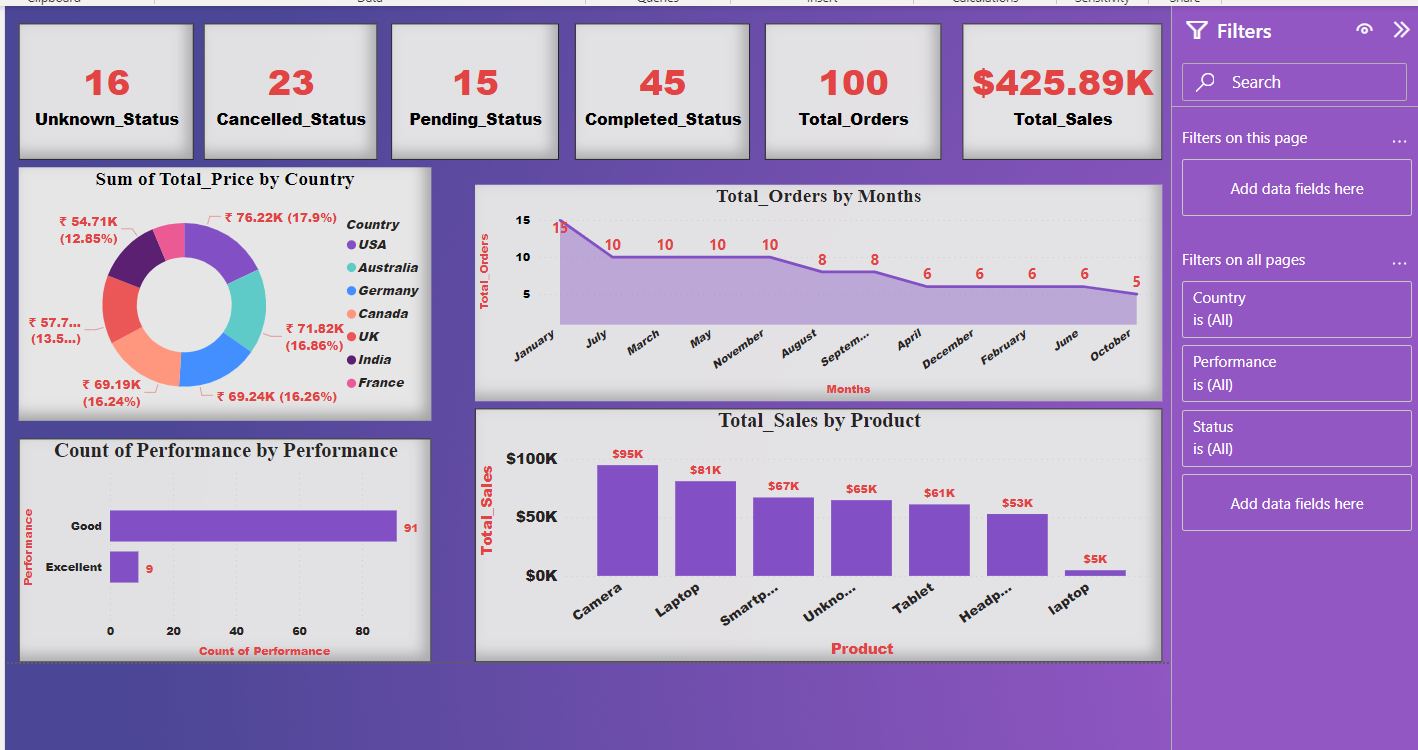

The dashboard page shown, as its layout file describes it:
{"tool":"powerbi","page":{"name":"Page 1","canvas":[1280,720],"ordinal":0},"visuals":[{"type":"donutChart","fields":{"Category":["practice_sales_data.Country"],"Y":["Sum(practice_sales_data.Total_Price)"]},"box":[15.1,177,452.8,278.6],"z":0},{"type":"areaChart","fields":{"Category":["practice_sales_data.Months"],"Y":["practice_sales_data.rder_Count"]},"box":[516,196.2,754.7,237.4],"z":1000},{"type":"card","fields":{"Values":["practice_sales_data.Total_Sales"]},"box":[1051.1,19.2,219.6,149.6],"z":2000},{"type":"clusteredColumnChart","fields":{"Y":["practice_sales_data.Total_Sales"],"Category":["practice_sales_data.Product"]},"box":[516,441.9,754.7,278.6],"z":3000},{"type":"card","fields":{"Values":["practice_sales_data.Completed_Status_Count"]},"box":[625.7,19.2,192.1,149.6],"z":4000},{"type":"card","fields":{"Values":["practice_sales_data.Pending_Status_Count"]},"box":[424,19.2,183.9,149.6],"z":5000},{"type":"card","fields":{"Values":["practice_sales_data.Cancelled_Status_Count"]},"box":[218.2,19.2,190.7,149.6],"z":6000},{"type":"card","fields":{"Values":["practice_sales_data.Unknown_Status_Count"]},"box":[15.1,19.2,192.1,149.6],"z":7000},{"type":"clusteredBarChart","fields":{"Y":["CountNonNull(practice_sales_data.Performance)"],"Category":["practice_sales_data.Performance","practice_sales_data.SalesPerson"]},"box":[15.1,474.8,452.8,245.6],"z":8000},{"type":"card","fields":{"Values":["practice_sales_data.Total_Orders"]},"box":[834.3,19.2,193.5,149.6],"z":9000}]}

Visuals, with their boxes on the page's 1280x720 design canvas (x1, y1, x2, y2). These are canvas units, not pixel positions in the 1418x750 screenshot, which may show the page scaled, cropped or inside an application window:
donutChart - practice_sales_data.Country x Sum(practice_sales_data.Total_Price): (15,177,468,456)
areaChart - practice_sales_data.Months x practice_sales_data.rder_Count: (516,196,1271,434)
card - practice_sales_data.Total_Sales: (1051,19,1271,169)
clusteredColumnChart - practice_sales_data.Total_Sales x practice_sales_data.Product: (516,442,1271,720)
card - practice_sales_data.Completed_Status_Count: (626,19,818,169)
card - practice_sales_data.Pending_Status_Count: (424,19,608,169)
card - practice_sales_data.Cancelled_Status_Count: (218,19,409,169)
card - practice_sales_data.Unknown_Status_Count: (15,19,207,169)
clusteredBarChart - CountNonNull(practice_sales_data.Performance) x practice_sales_data.Performance: (15,475,468,720)
card - practice_sales_data.Total_Orders: (834,19,1028,169)
